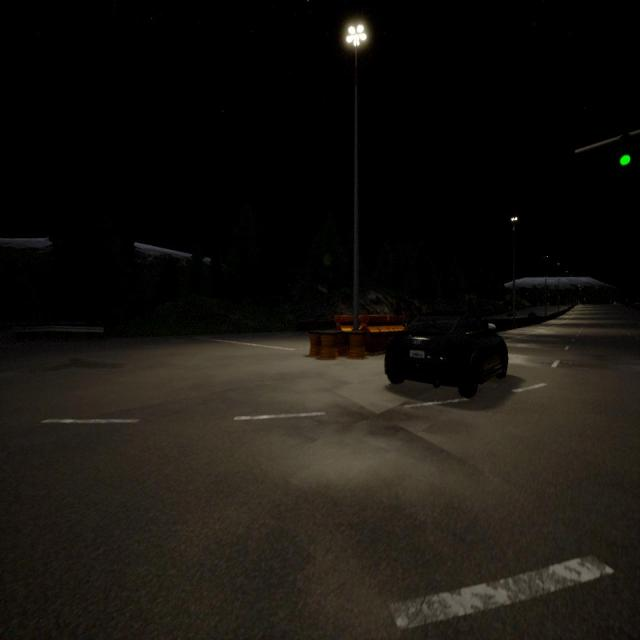Vehicle: (384, 314, 508, 398)
traffic_light: (621, 135, 630, 166)
